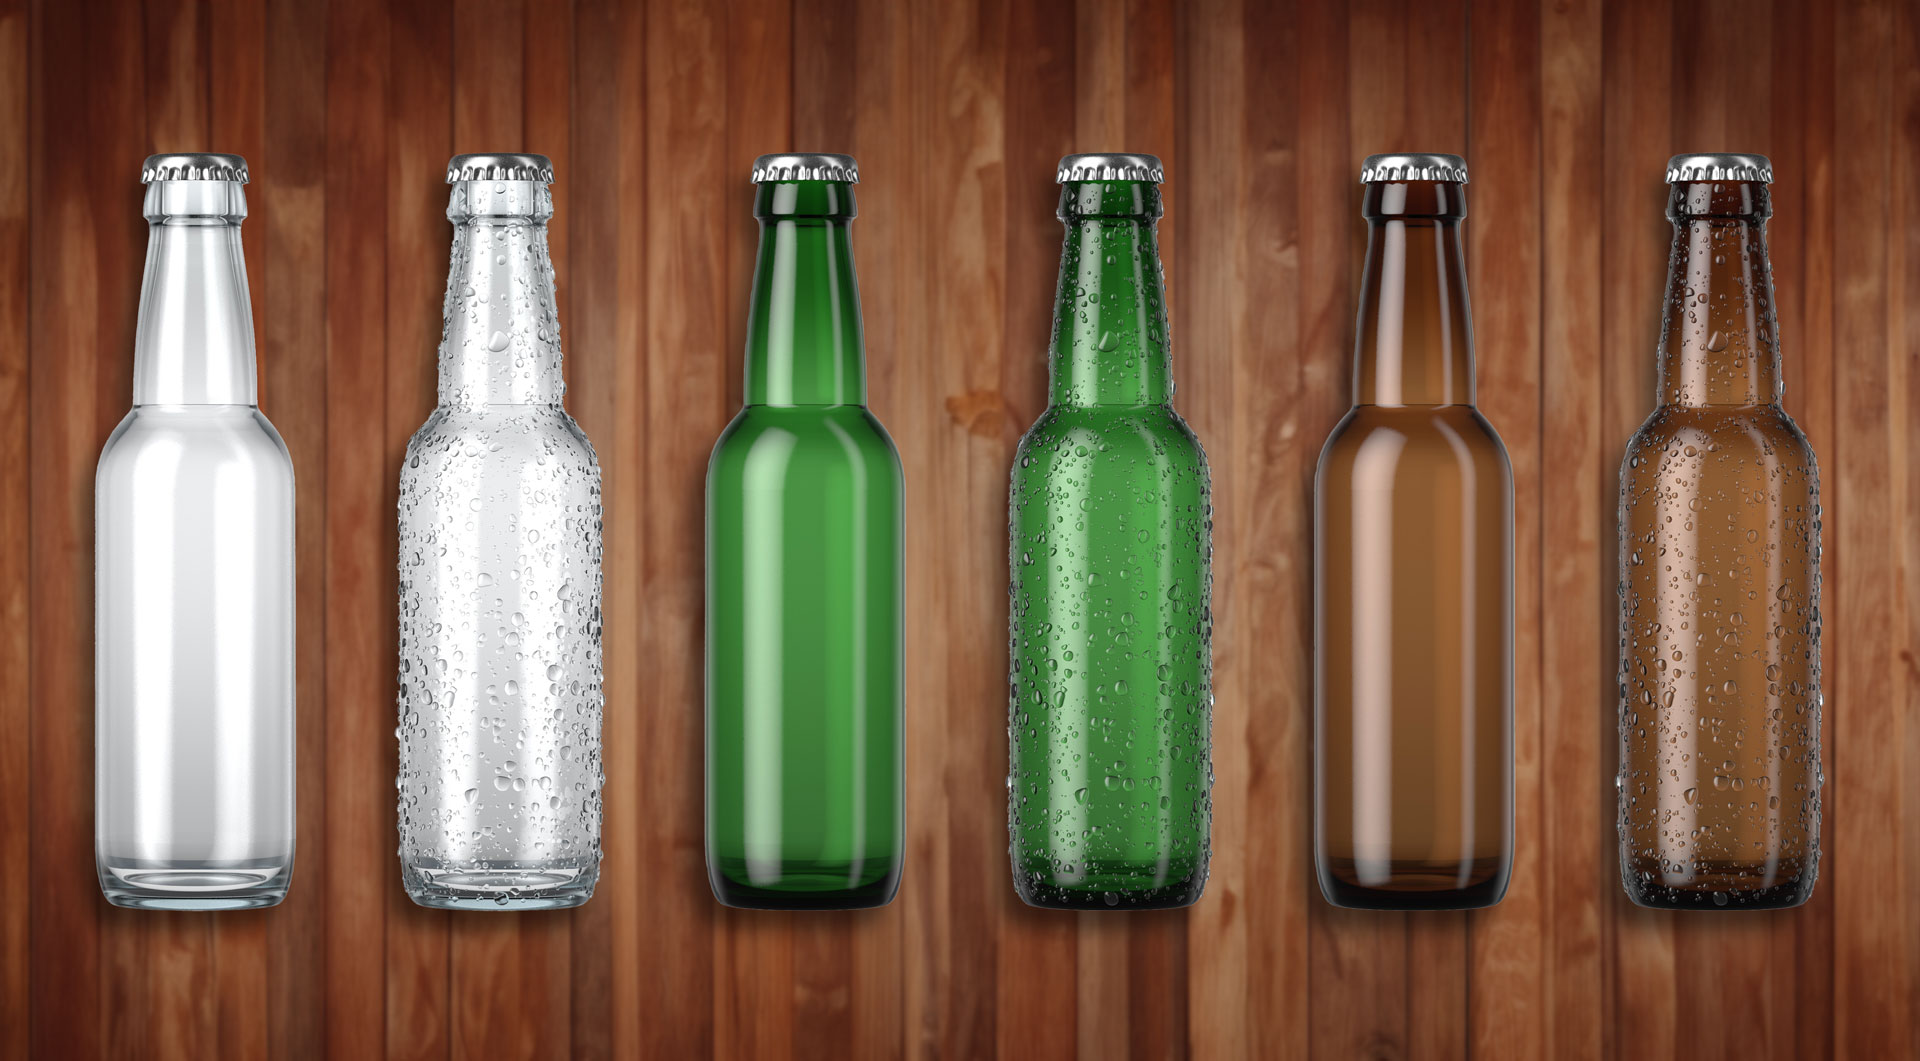glass_bottle: (1583, 139, 1861, 937), (61, 137, 334, 941), (1276, 140, 1537, 932), (982, 139, 1228, 942), (372, 141, 615, 945), (687, 142, 908, 953)
